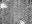person: (19, 19, 23, 24), (1, 5, 6, 8)
